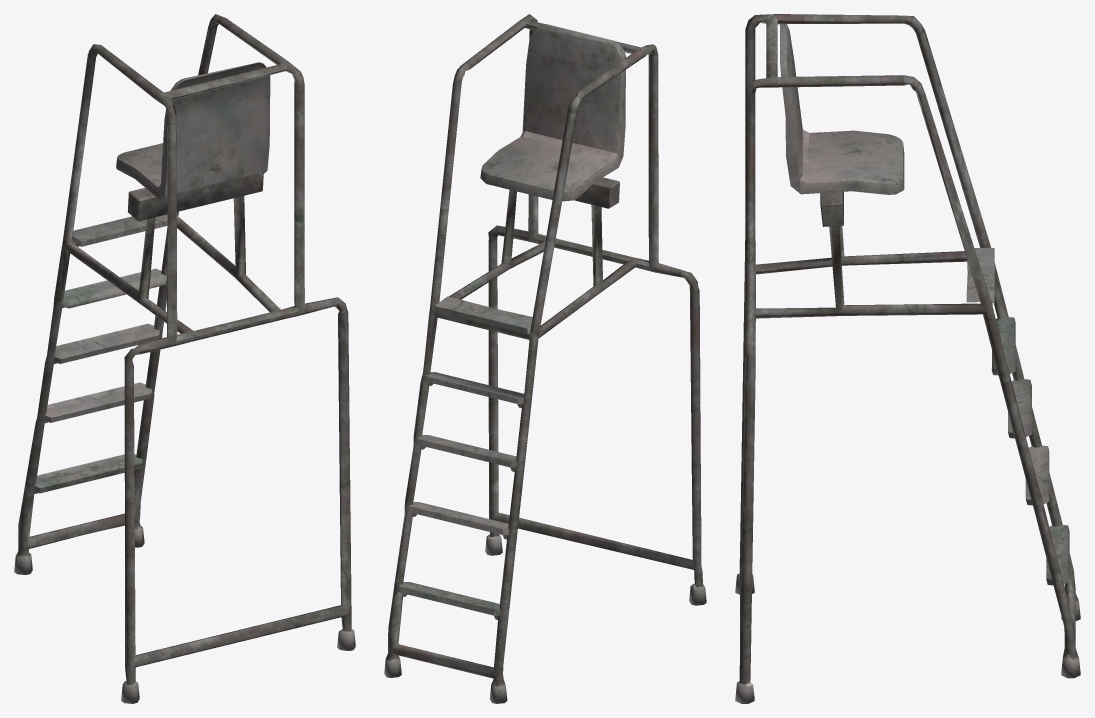
Rendered from bay-lifeguard-chair.lod0.glb.
3 renders of one model, left to right at view 1: azimuth 30°, elevation 25°; view 2: azimuth 150°, elevation 25°; view 3: azimuth 270°, elevation 25°, orthographic. The views are drawn at different scales.
Visible parts, largest first — view 1: Box001__0; view 2: Box001__0; view 3: Box001__0.
Boxes of the visible parts, bbox=[...] form: Box001__0: bbox=[14, 14, 355, 703]; Box001__0: bbox=[384, 14, 706, 703]; Box001__0: bbox=[735, 14, 1080, 703].
Size of the model in its own units: 1.15 by 2.8 by 1.45.
1 material, 1 textured.
